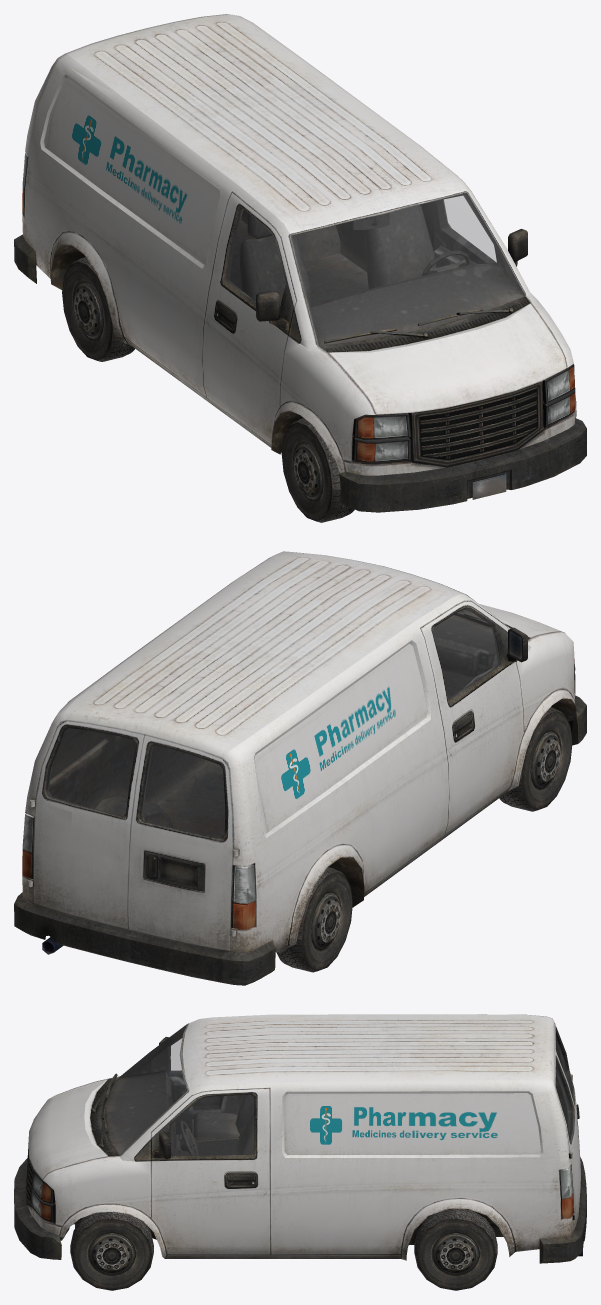
Rendered from Car.FBX.
3 renders of one model, top to bottom at view 1: azimuth 30°, elevation 25°; view 2: azimuth 150°, elevation 25°; view 3: azimuth 270°, elevation 25°, orthographic. The views are drawn at different scales.
Visible parts, largest first — view 1: car; view 2: car; view 3: car.
Part boxes in pixels (left/top/right/bottom): car: left=14, top=14, right=586, bottom=522; car: left=14, top=551, right=586, bottom=985; car: left=14, top=1014, right=586, bottom=1290.
Size of the model in its own units: 209 by 191 by 489.
2 materials, 1 textured.
